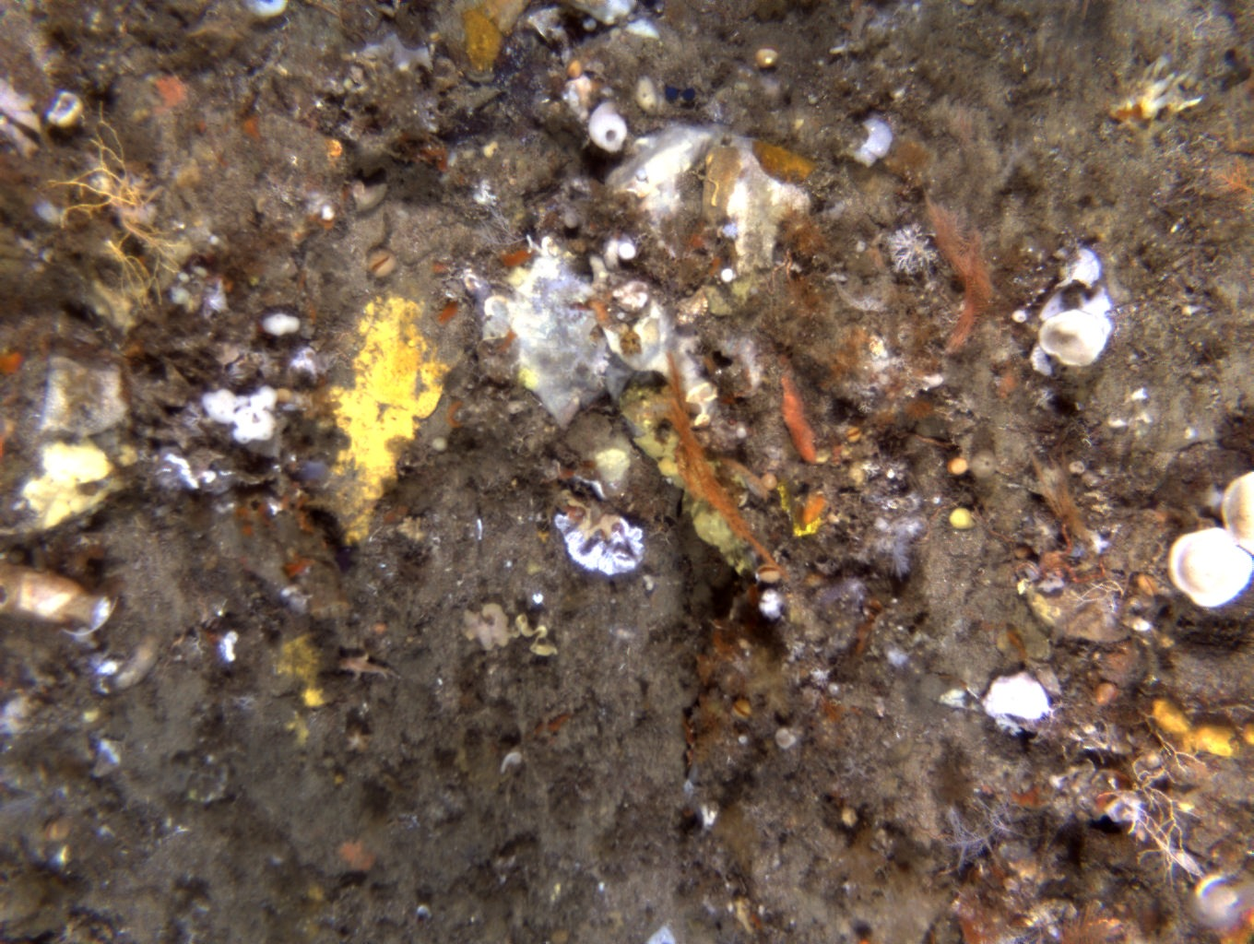Brachionichthyidae: (337, 652, 405, 685)
